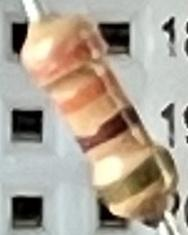Brown: (74, 105, 143, 155)
Orange: (25, 28, 109, 85), (54, 65, 122, 116)
Side-Gold: (95, 148, 174, 208)
